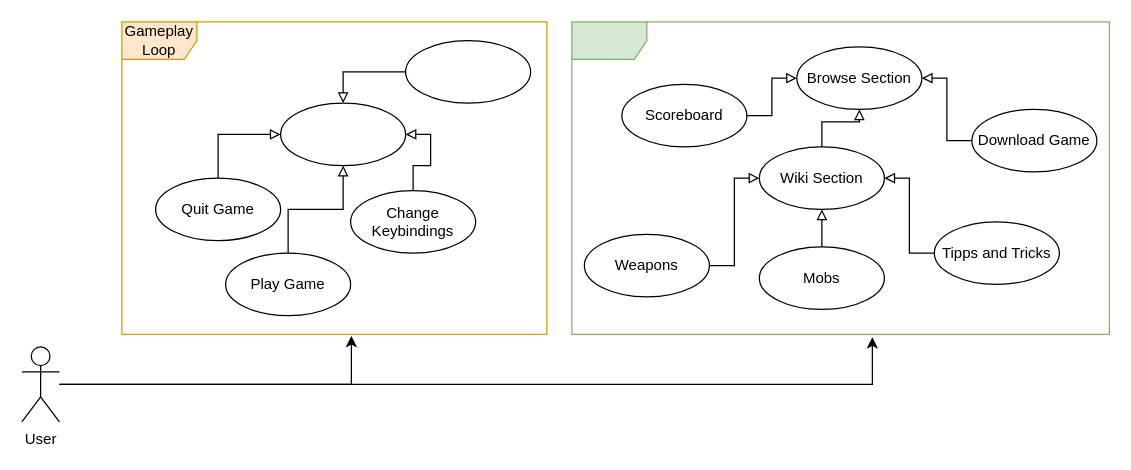
This 1131x470 diagram has some shape labels left out. Each missing label, with the centre of its shape:
"Menu Action" belongs at (x=342, y=134).
"Upload Highscore" belongs at (x=467, y=71).
"Website Activities" belongs at (x=840, y=177).
